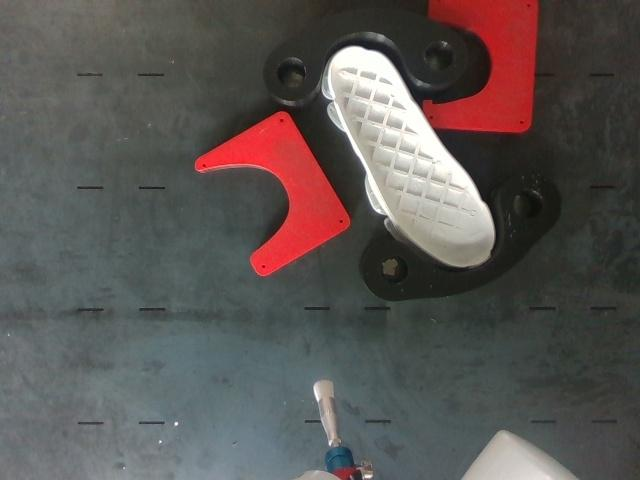shoes: (328, 46, 493, 268)
